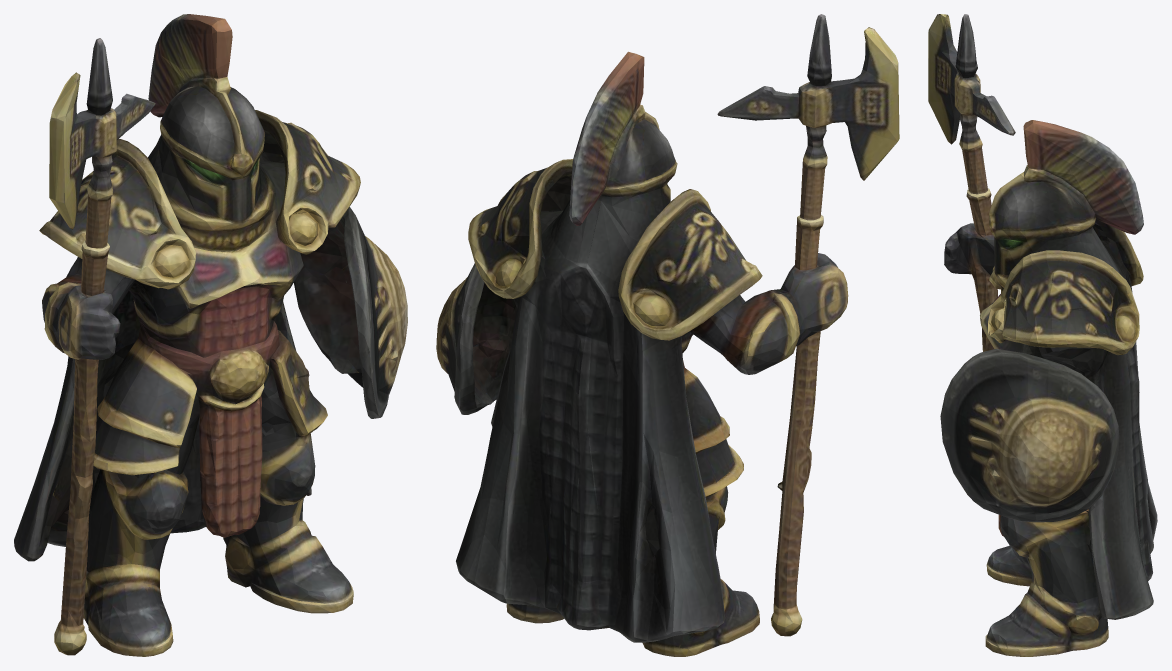
File: emperorGuard.glb
The picture shows the model from 3 angles, left to right: view 1: azimuth 30°, elevation 25°; view 2: azimuth 150°, elevation 25°; view 3: azimuth 270°, elevation 25°; orthographic projection. The views are drawn at different scales.
Parts seen in each view (by area): view 1: world; view 2: world; view 3: world.
Part boxes in pixels (box(x1,y1,x2,y2)): world: box(14, 14, 407, 656); world: box(436, 14, 899, 656); world: box(928, 14, 1157, 656).
Bounding box in the file's own units: 0.6771 × 1 × 0.3926.
1 material, 1 textured.
